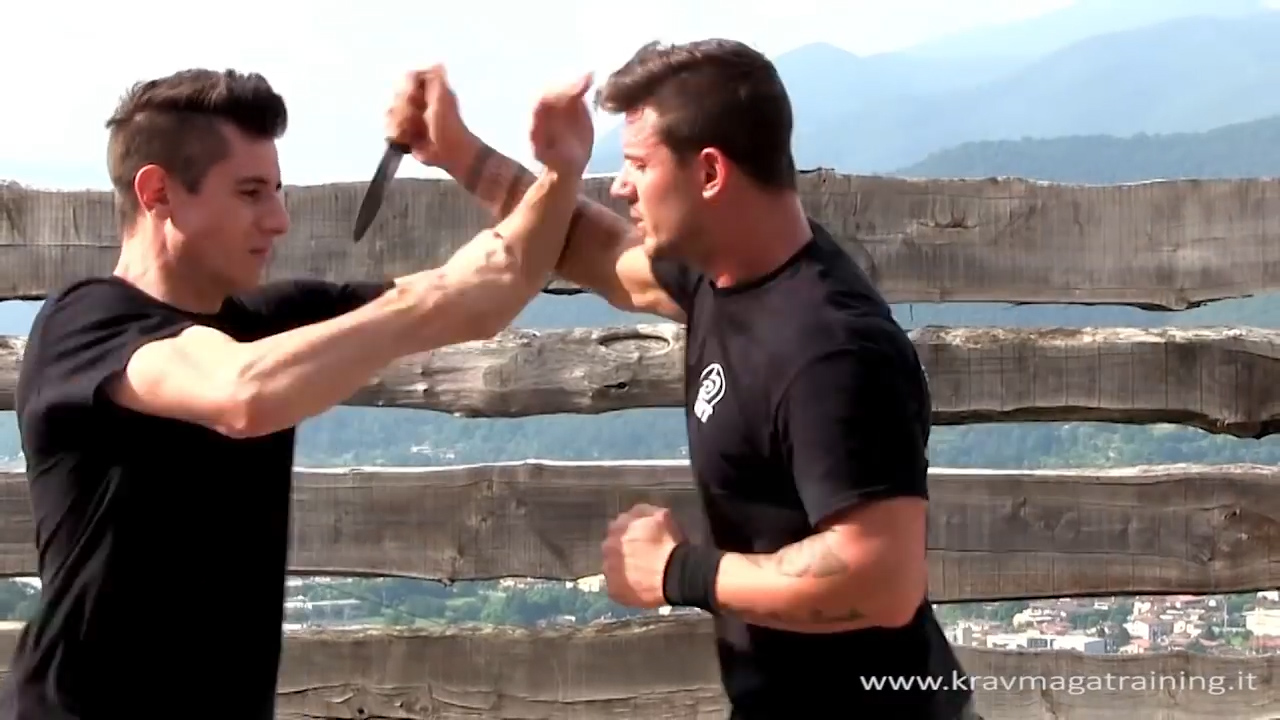knife: (339, 65, 460, 253)
